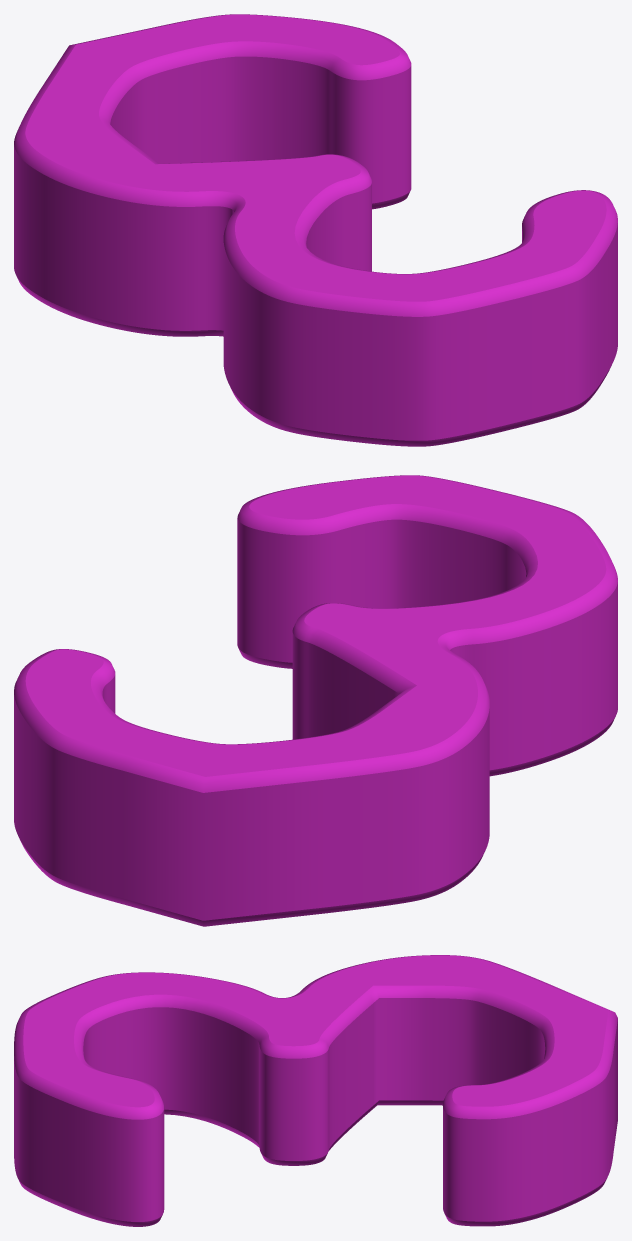
The model's file is Blocky_Number_3.fbx.
The picture shows the model from 3 angles, top to bottom: view 1: azimuth 30°, elevation 25°; view 2: azimuth 150°, elevation 25°; view 3: azimuth 270°, elevation 25°; orthographic projection. The views are drawn at different scales.
Visible parts, largest first — view 1: BlockyNumber_3; view 2: BlockyNumber_3; view 3: BlockyNumber_3.
Boxes of the visible parts, bbox=[...] form: BlockyNumber_3: bbox=[14, 14, 617, 446]; BlockyNumber_3: bbox=[14, 475, 617, 926]; BlockyNumber_3: bbox=[14, 955, 617, 1226].
Size of the model in its own units: 0.402 by 0.14 by 0.6417.
